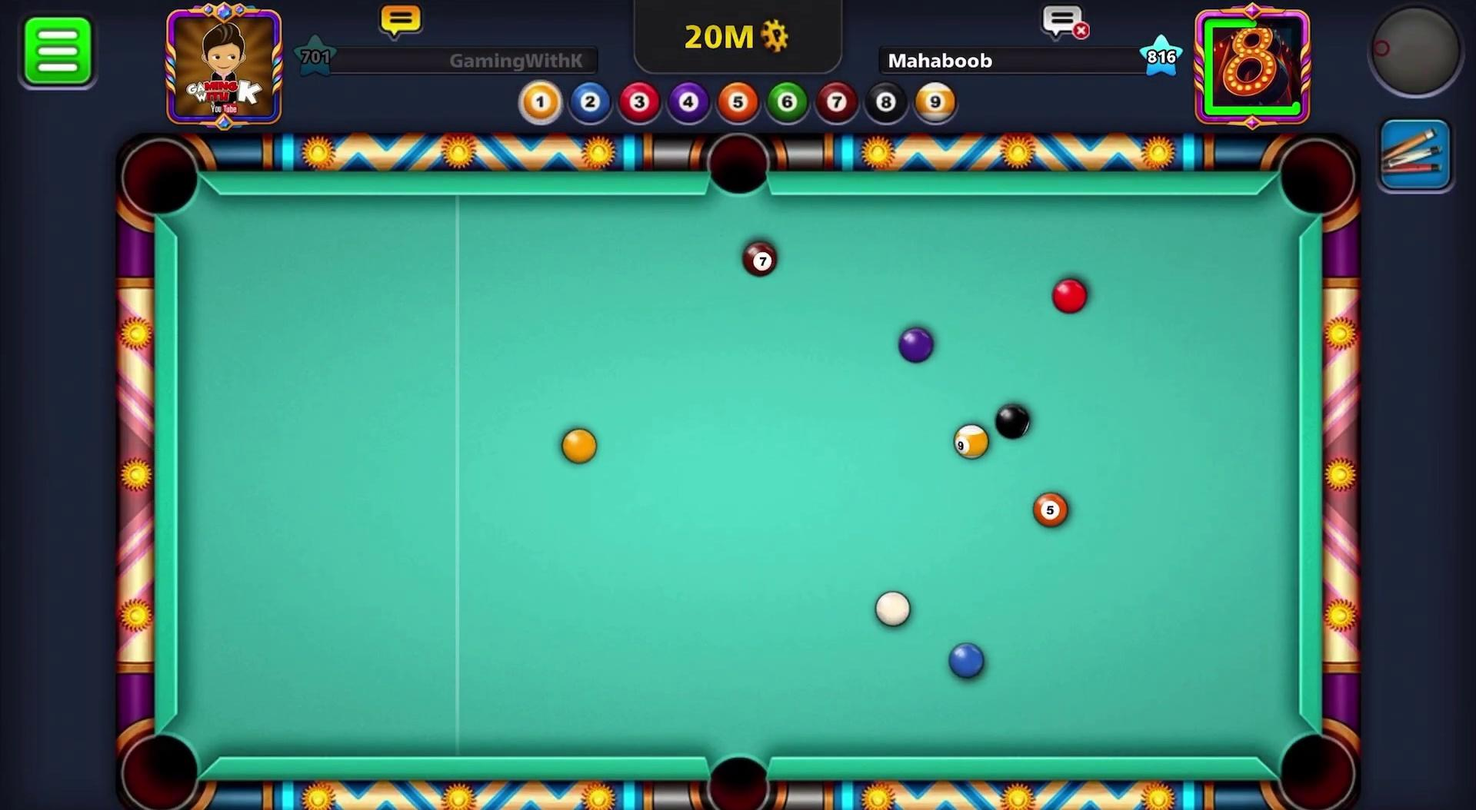Ball: (988, 398, 1036, 446), (895, 318, 938, 370), (554, 423, 601, 469), (1028, 489, 1071, 534), (951, 419, 992, 466), (1051, 274, 1091, 321), (947, 641, 988, 682), (740, 237, 779, 279)
Hole: (108, 130, 211, 229), (1268, 131, 1366, 231), (1265, 716, 1364, 809), (111, 719, 212, 809), (697, 123, 785, 207), (682, 742, 788, 809)
Play_Area: (176, 194, 1301, 759)
Spin: (1346, 0, 1475, 117)
White: (871, 587, 914, 629)
